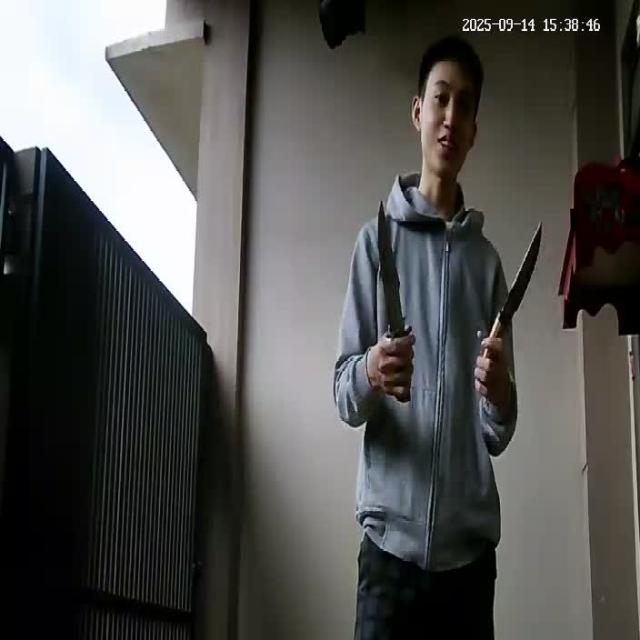senjata_tajam: (486, 220, 546, 343), (376, 198, 412, 338)
